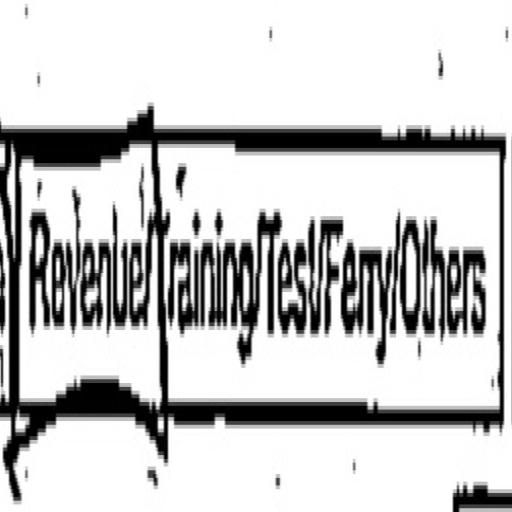check: (3, 57, 159, 512)
